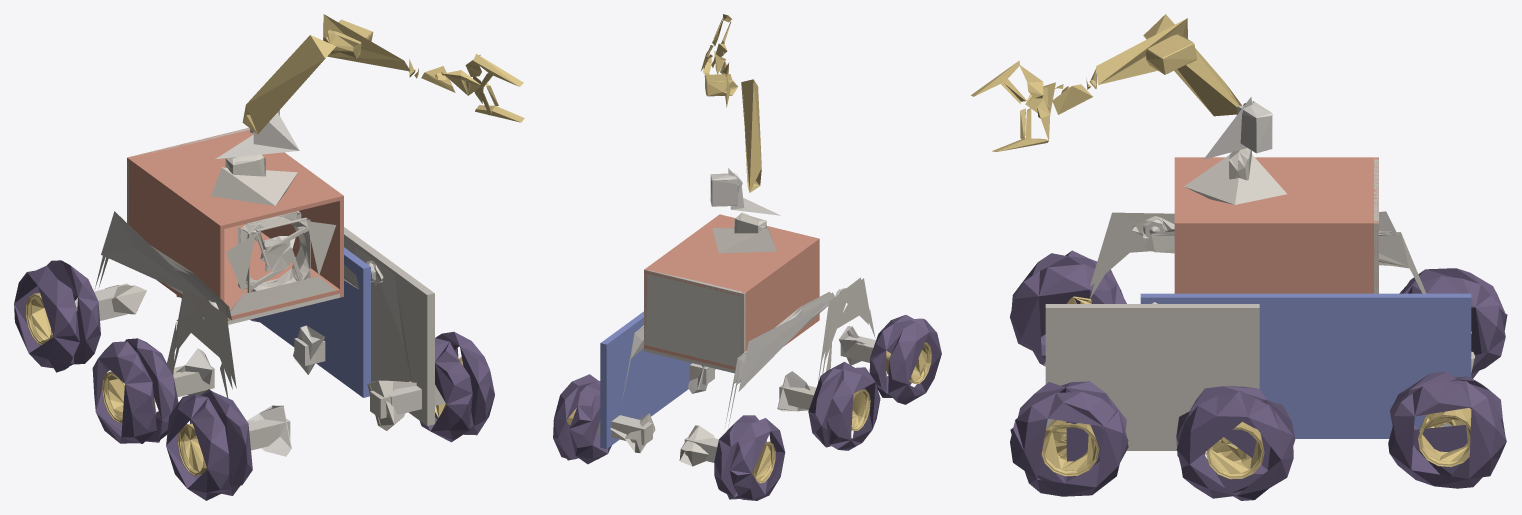
File: rover.glb
The picture shows the model from 3 angles, left to right: view 1: azimuth 30°, elevation 25°; view 2: azimuth 150°, elevation 25°; view 3: azimuth 270°, elevation 25°; orthographic projection. The views are drawn at different scales.
Visible parts, largest first — view 1: geometry_0; view 2: geometry_0; view 3: geometry_0.
Part boxes in pixels (<box>): geometry_0: <box>14,14,524,500</box>; geometry_0: <box>553,14,941,500</box>; geometry_0: <box>971,14,1507,500</box>.
Size of the model in its own units: 1.82 by 2.3 by 2.54.
